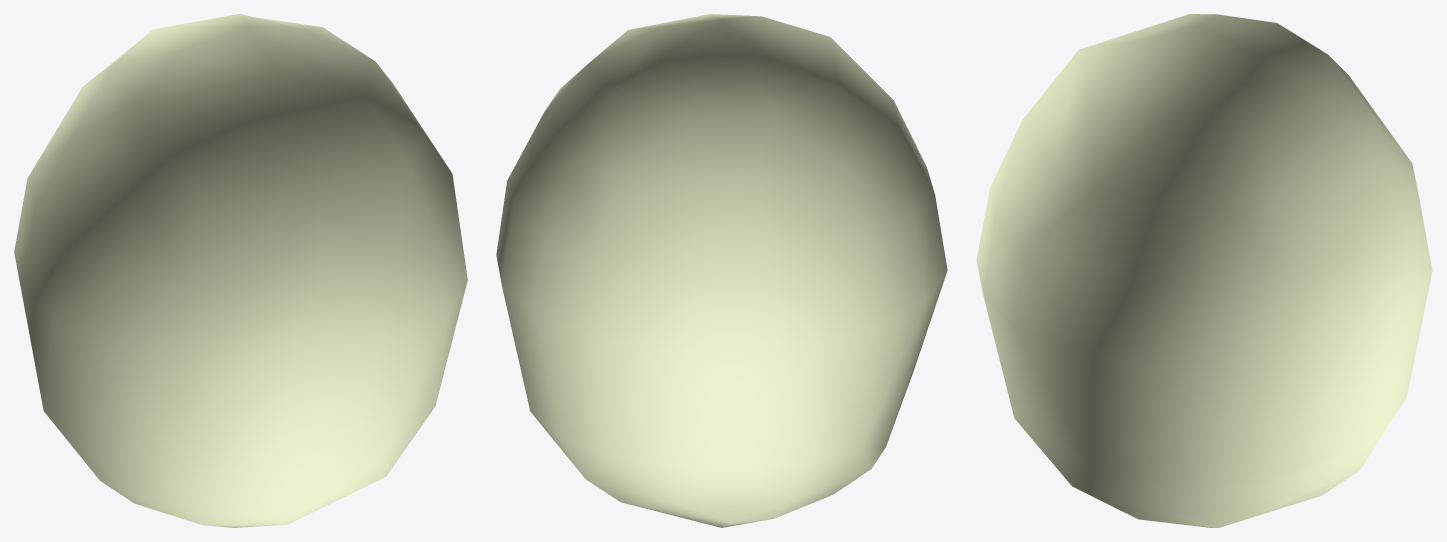
Rendered from FP_kiwi.FBX.
The picture shows the model from 3 angles, left to right: view 1: azimuth 30°, elevation 25°; view 2: azimuth 150°, elevation 25°; view 3: azimuth 270°, elevation 25°; orthographic projection.
Parts seen in each view (by area): view 1: FP_kiwi; view 2: FP_kiwi; view 3: FP_kiwi.
Part boxes in pixels (left/top/right/bottom): FP_kiwi: left=14, top=14, right=467, bottom=527; FP_kiwi: left=496, top=14, right=947, bottom=527; FP_kiwi: left=976, top=14, right=1432, bottom=527.
Bounding box in the file's own units: 3.38 × 4.14 × 3.38.
